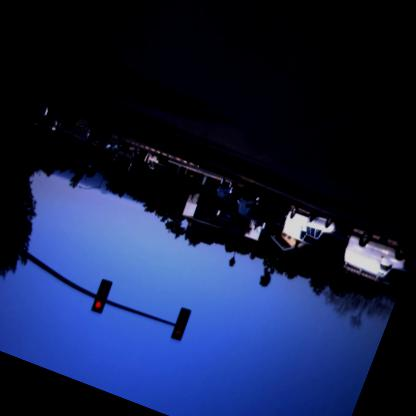trafficlight: (87, 275, 115, 316), (168, 306, 194, 343)
